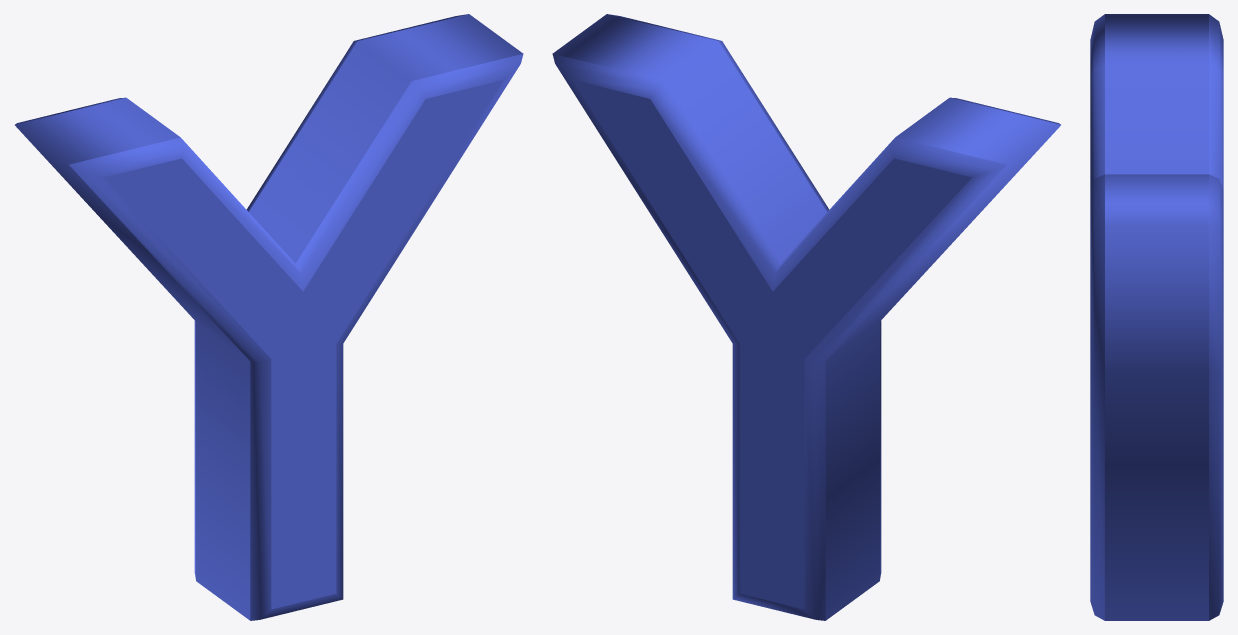
The picture shows the model from 3 angles, left to right: view 1: azimuth 30°, elevation 25°; view 2: azimuth 150°, elevation 25°; view 3: azimuth 270°, elevation 25°; orthographic projection. The views are drawn at different scales.
Visible parts, largest first — view 1: Text; view 2: Text; view 3: Text.
Boxes of the visible parts, bbox=[...] form: Text: bbox=[15, 14, 523, 620]; Text: bbox=[552, 14, 1060, 620]; Text: bbox=[1090, 14, 1223, 620].
Size of the model in its own units: 326 by 342 by 86.33.
